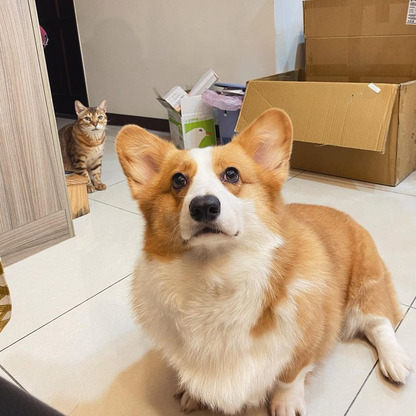Corgi: (102, 118, 407, 406)
